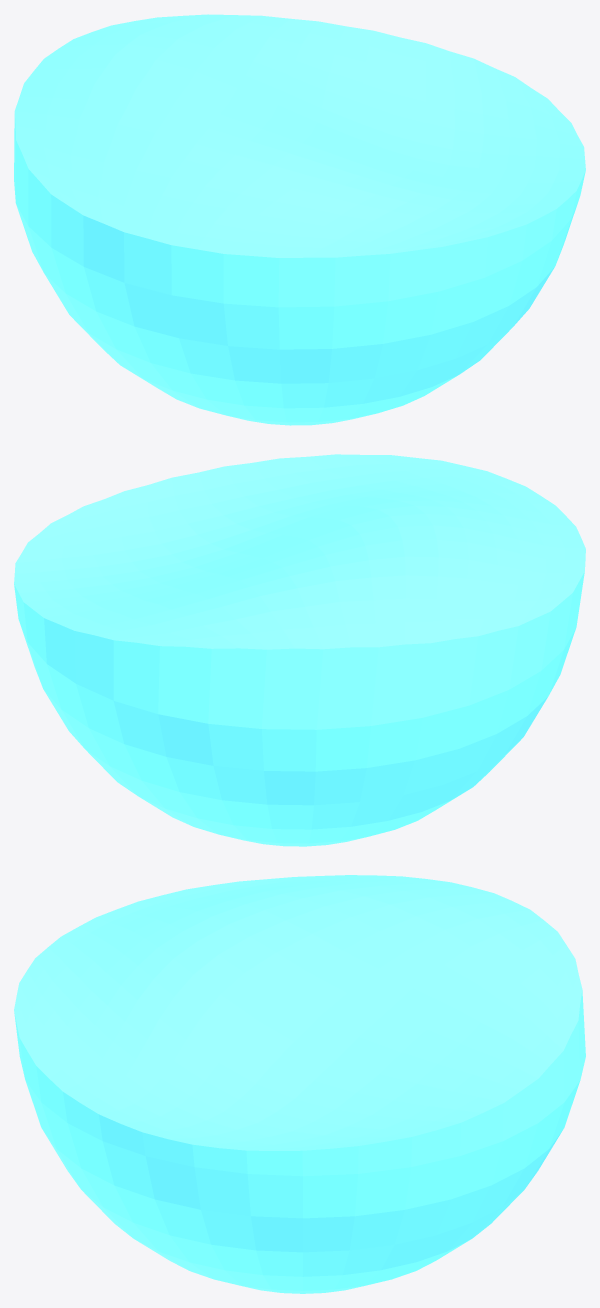
Rendered from liquid.glb.
3 renders of one model, top to bottom at view 1: azimuth 30°, elevation 25°; view 2: azimuth 150°, elevation 25°; view 3: azimuth 270°, elevation 25°, orthographic.
Visible parts, largest first — view 1: Liquid; view 2: Liquid; view 3: Liquid.
Part boxes in pixels (left/top/right/bottom): Liquid: left=14, top=14, right=585, bottom=425; Liquid: left=14, top=454, right=585, bottom=846; Liquid: left=14, top=875, right=585, bottom=1293.
Size of the model in its own units: 1.76 by 1.03 by 1.74.
